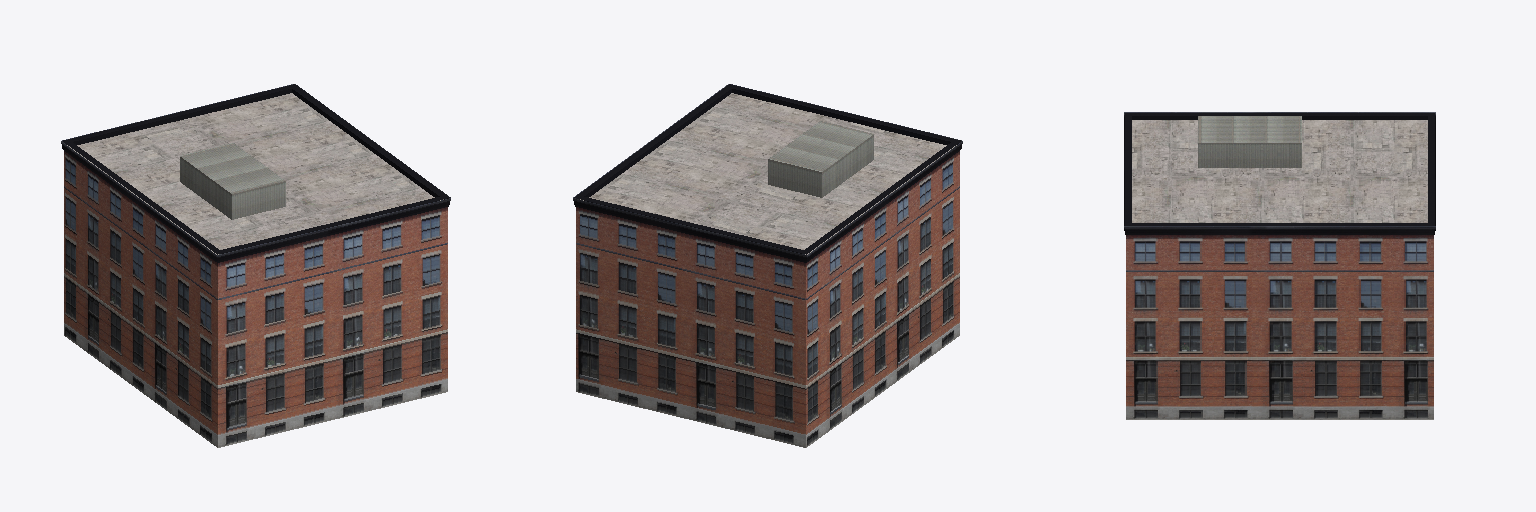
The picture shows the model from 3 angles: view 1: azimuth 30°, elevation 25°; view 2: azimuth 150°, elevation 25°; view 3: azimuth 270°, elevation 25°; orthographic projection.
Visible parts, largest first — view 1: building_38; view 2: building_38; view 3: building_38.
Part boxes in pixels (x1,y1,x2,y2): building_38: (61, 84, 450, 447); building_38: (573, 84, 962, 447); building_38: (1124, 112, 1435, 419).
Size of the model in its own units: 59.05 by 51.93 by 68.2.
1 materials, 1 textured.